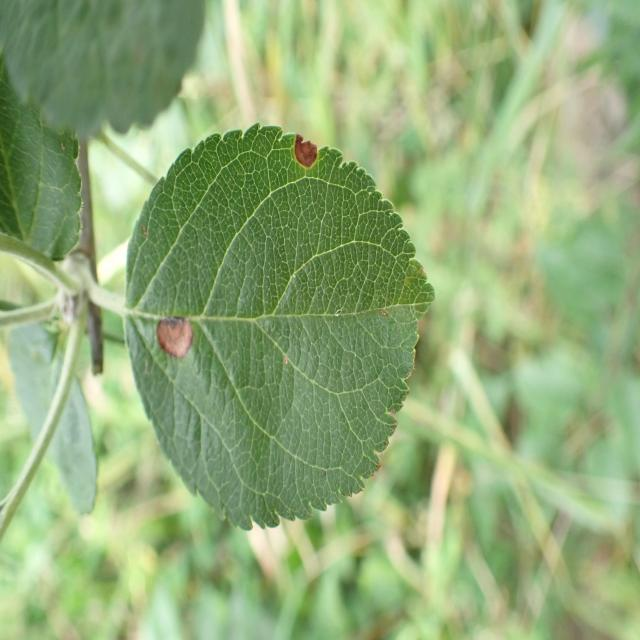Black Rot: (140, 309, 214, 380), (277, 128, 339, 192)
